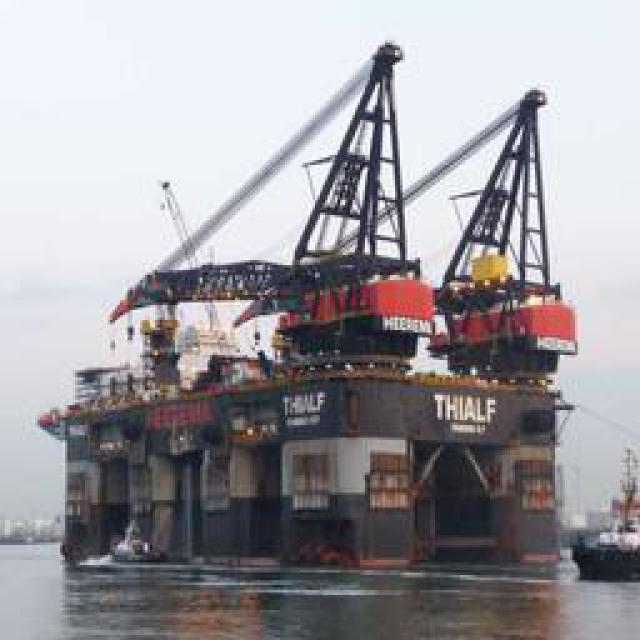Ship: (45, 42, 590, 580)
